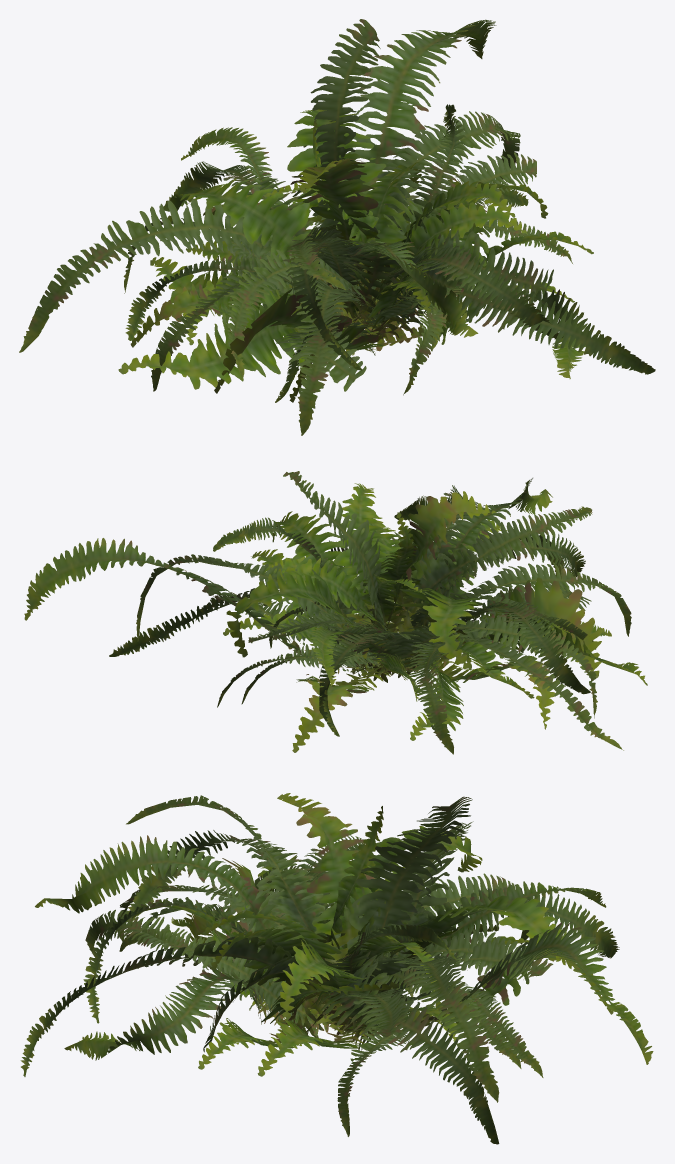
Rendered from fern-02.glb.
3 views of the same model, one above another, from view 1: azimuth 30°, elevation 25°; view 2: azimuth 150°, elevation 25°; view 3: azimuth 270°, elevation 25° (orthographic). The views are drawn at different scales.
Visible parts, largest first — view 1: fern_02_b, fern_02_c, fern_02_d, fern_02_a; view 2: fern_02_b, fern_02_c, fern_02_a, fern_02_d; view 3: fern_02_b, fern_02_c, fern_02_a, fern_02_d.
Part boxes in pixels (bbox=[...]): fern_02_b: bbox=[19, 19, 655, 435]; fern_02_c: bbox=[118, 120, 587, 402]; fern_02_d: bbox=[150, 178, 574, 402]; fern_02_a: bbox=[182, 104, 553, 351]; fern_02_b: bbox=[24, 471, 631, 752]; fern_02_c: bbox=[109, 485, 647, 754]; fern_02_a: bbox=[213, 517, 534, 707]; fern_02_d: bbox=[269, 519, 611, 740]; fern_02_b: bbox=[20, 793, 653, 1136]; fern_02_c: bbox=[64, 795, 606, 1144]; fern_02_a: bbox=[119, 866, 553, 1077]; fern_02_d: bbox=[131, 861, 537, 1069].
Size of the model in its own units: 0.9897 by 0.4277 by 0.8937.
4 materials, 4 textured.
